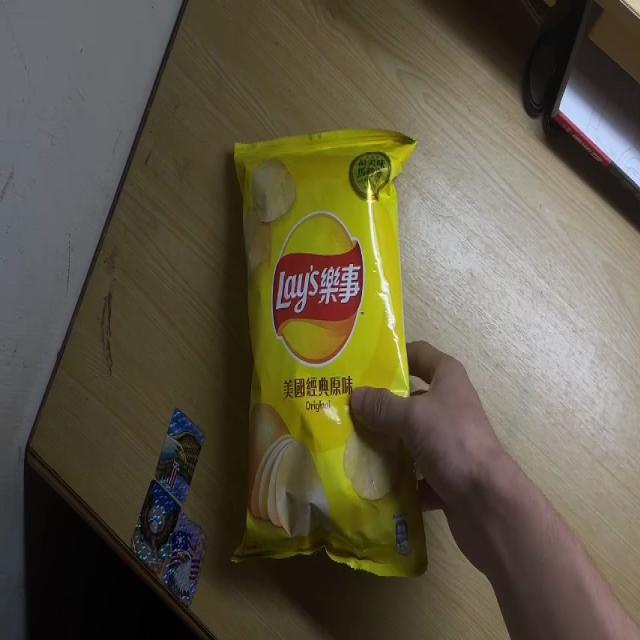Lay-s-original: (233, 131, 426, 580)
